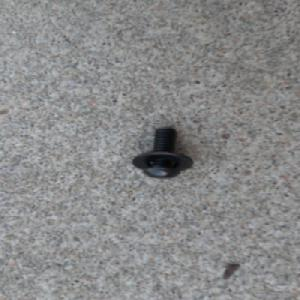BoltWasher: (130, 125, 194, 179)
